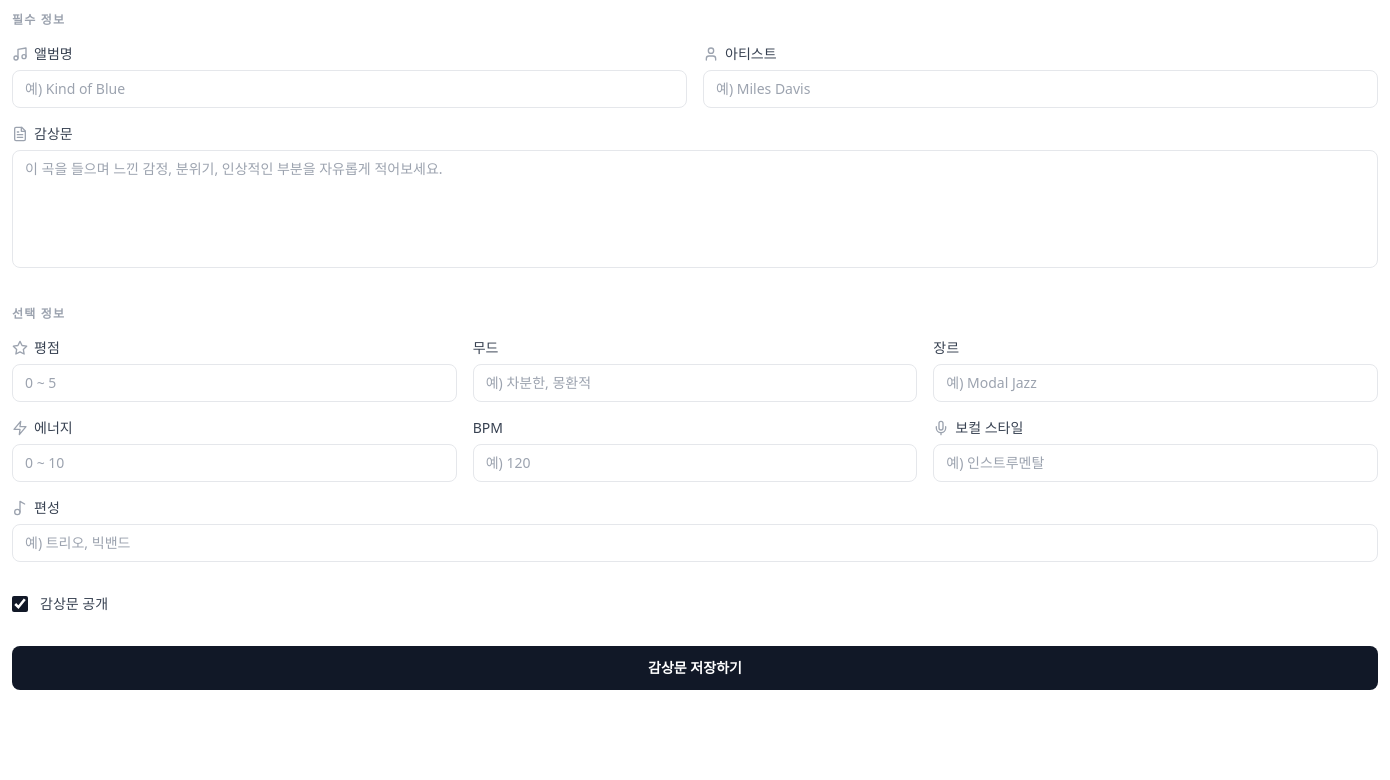
Scenario: ReviewForm › 필수 필드 없이 제출하면 유효성 에러가 표시된다
Click the button "감상문 저장하기". click: [695, 668]
box: [12,646,1378,690]
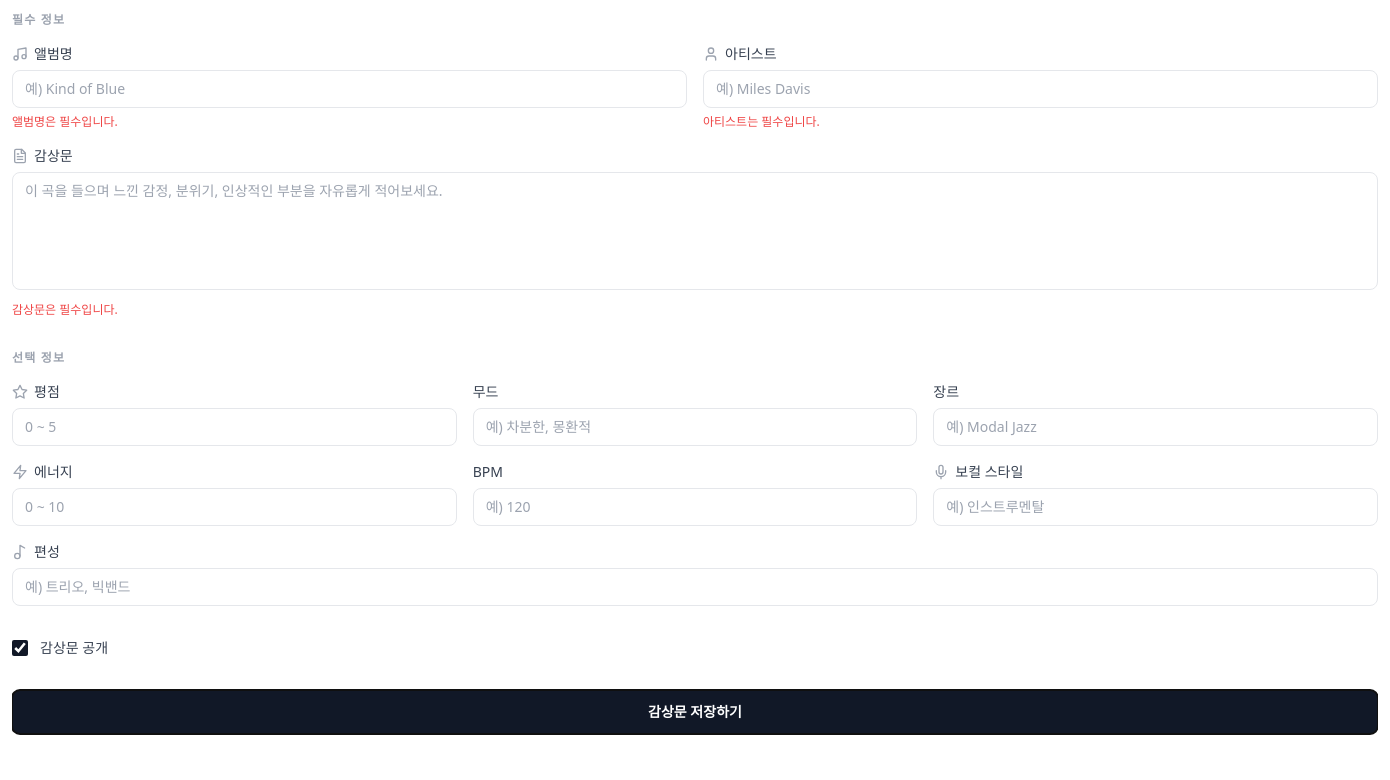
Now the text "앨범명은 필수입니다." is shown, box [12,113,118,130]
Now the text "아티스트는 필수입니다." is shown, box [703,113,820,130]
Now the text "감상문은 필수입니다." is shown, box [12,301,118,318]
